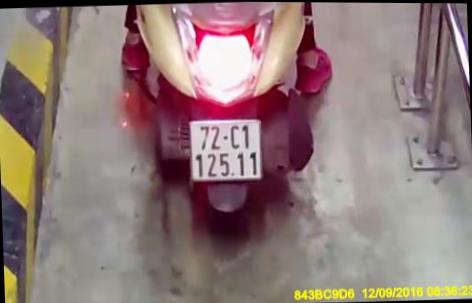LP: (188, 116, 265, 183)
